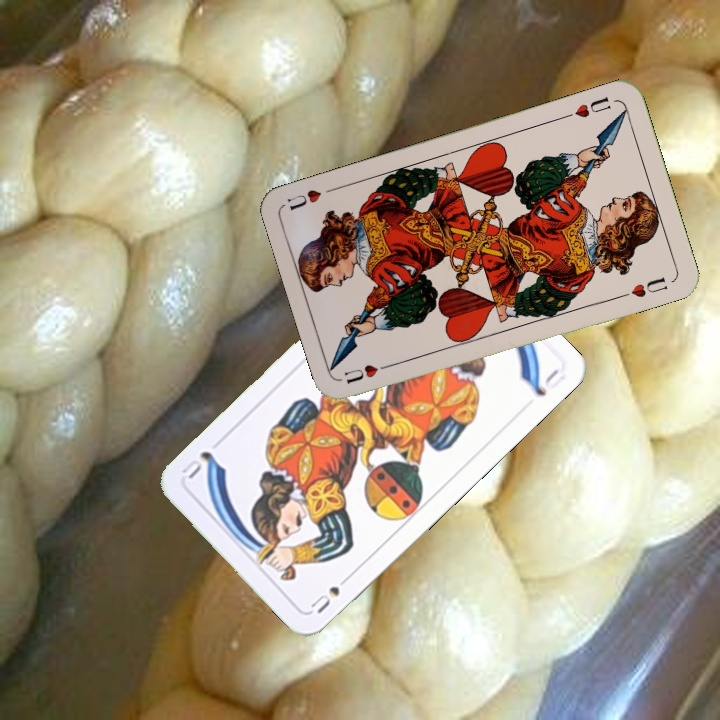HU: (340, 359, 397, 387), (560, 93, 613, 121)
SU: (306, 569, 354, 617)
